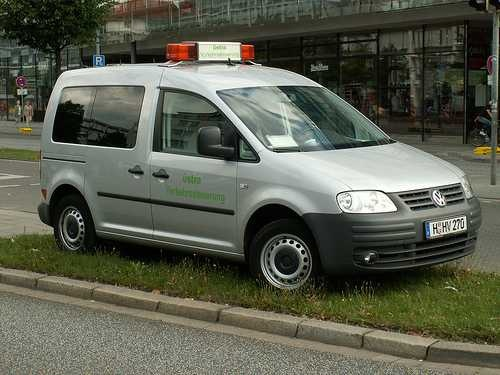Police Car: (38, 15, 452, 285)
